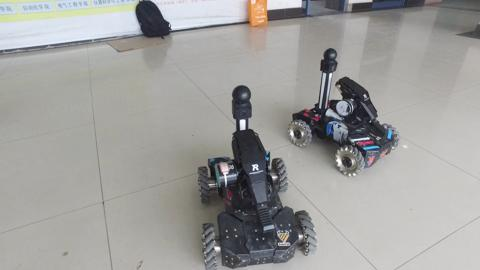chariot: (190, 79, 319, 270), (286, 45, 400, 180)
